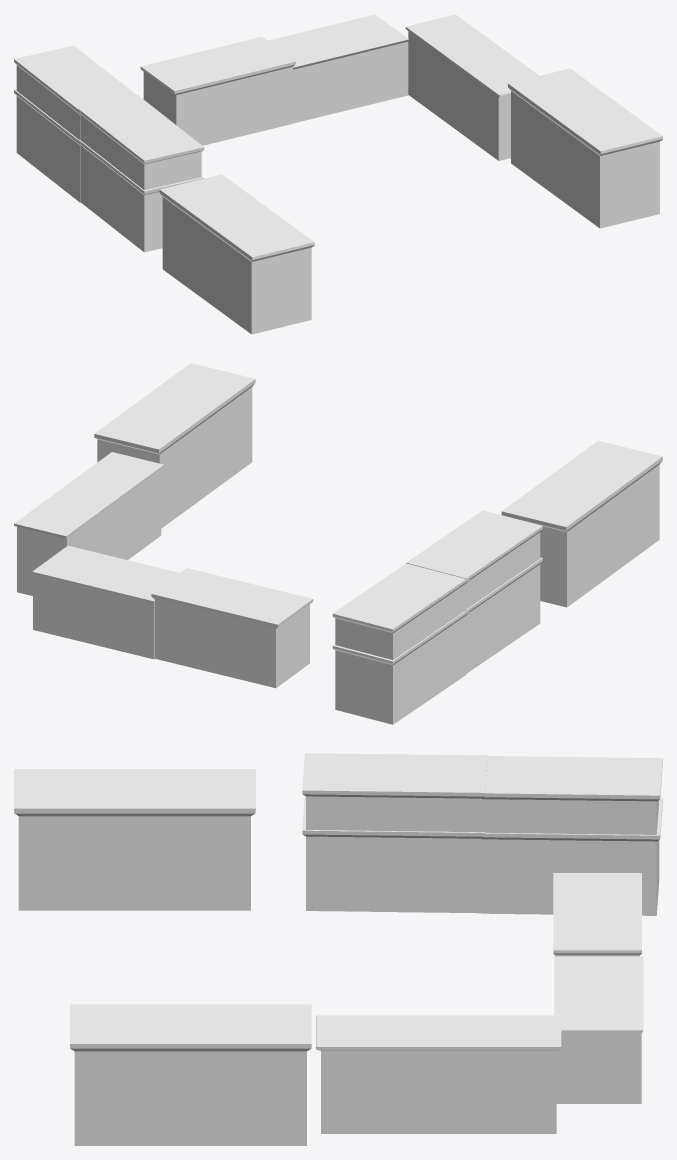
File: Exterior.fbx
3 renders of one model, top to bottom at view 1: azimuth 30°, elevation 25°; view 2: azimuth 150°, elevation 25°; view 3: azimuth 270°, elevation 25°, orthographic. The views are drawn at different scales.
Parts seen in each view (by area): view 1: Exterior; view 2: Exterior; view 3: Exterior.
Boxes of the visible parts, x1,y1,x2,y2 form: Exterior: (14,14,662,334); Exterior: (14,363,662,724); Exterior: (14,753,662,1145).
Bounding box in the file's own units: 5003 × 1034 × 4993.
1 material, 1 textured.
